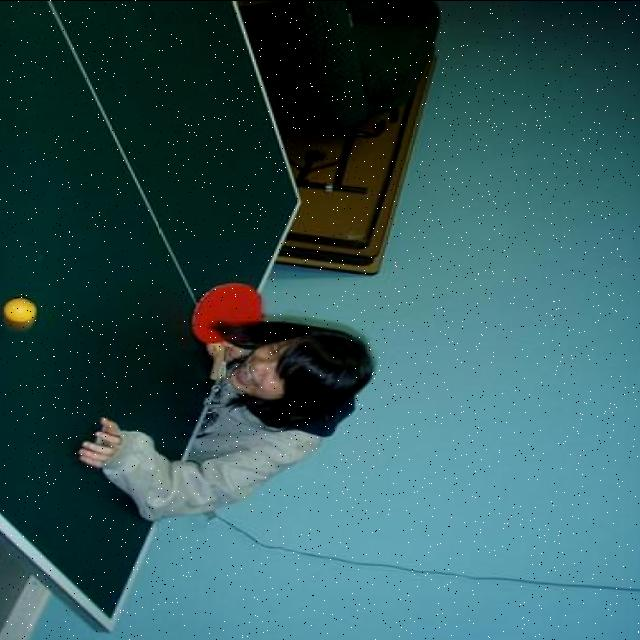ping-pong-ball: (2, 296, 38, 324)
